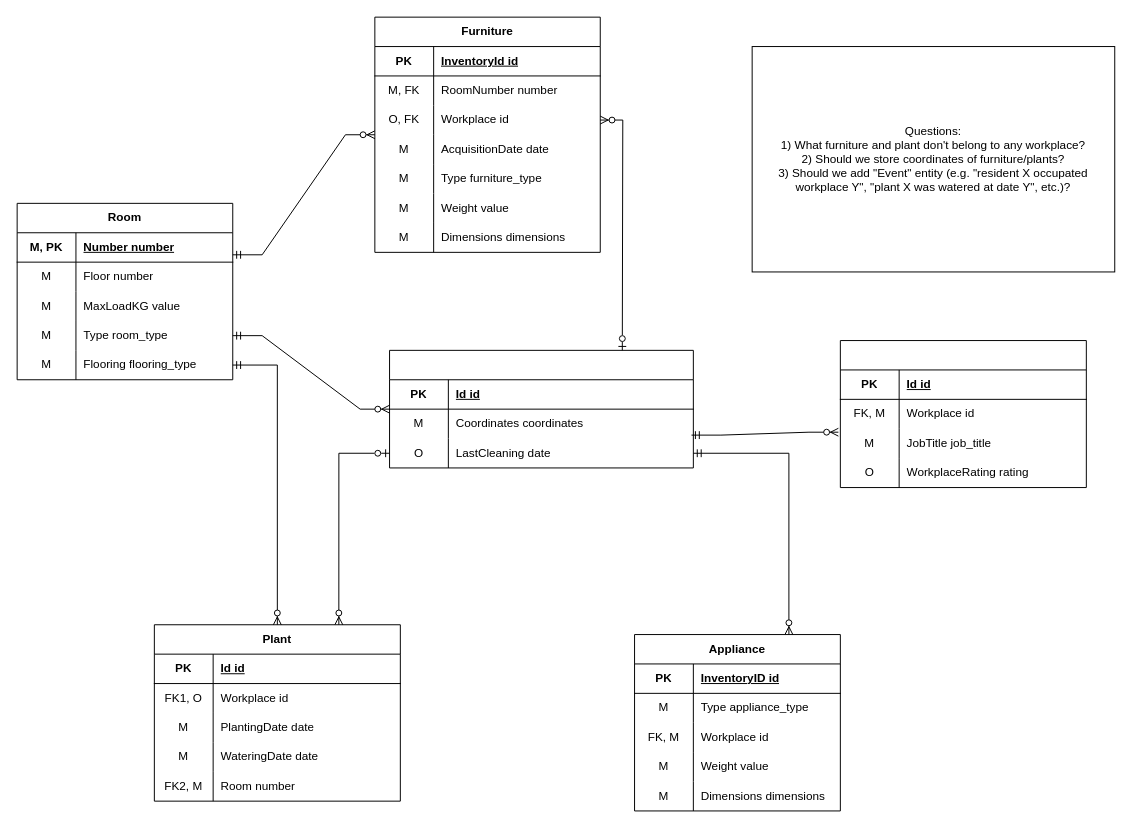
The diagram is 1132 pixels wide and 828 high, and some of its shapes have lost their labels. The shapes that lost their labels are listed below. From the top down, each one's box as (x1, y1, x2, y2) in pixels, then its label:
(389, 349, 693, 468): Workplace
(839, 340, 1086, 488): OfficeResident
